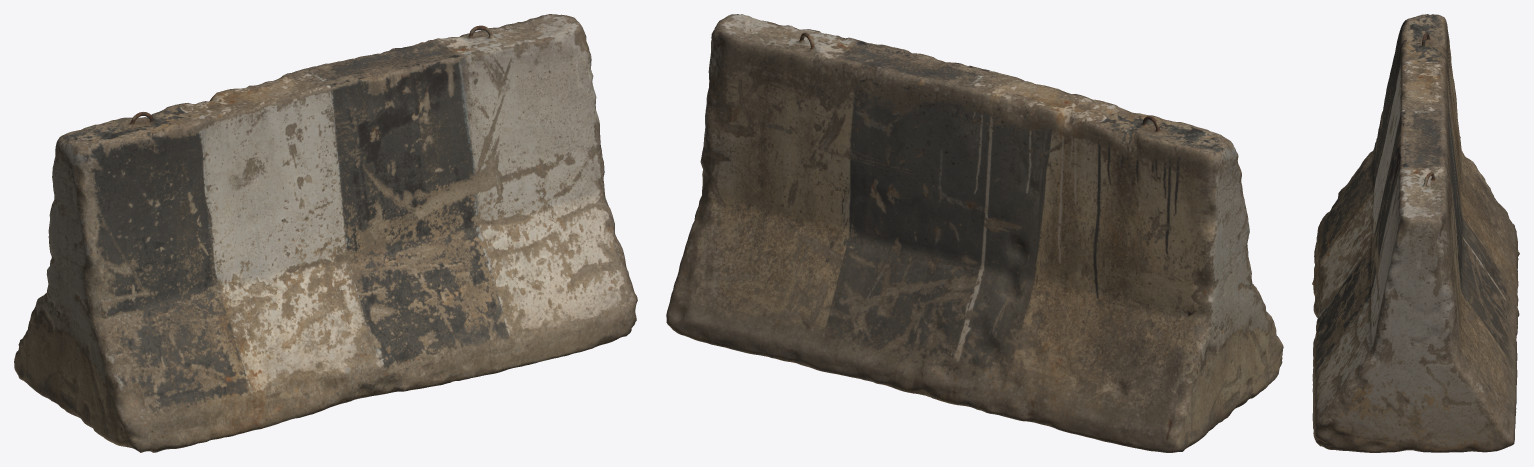
Rendered from concrete_road_barrier.glb.
3 renders of one model, left to right at view 1: azimuth 30°, elevation 25°; view 2: azimuth 150°, elevation 25°; view 3: azimuth 270°, elevation 25°, orthographic. The views are drawn at different scales.
Parts seen in each view (by area): view 1: concrete_road_barrier; view 2: concrete_road_barrier; view 3: concrete_road_barrier.
Boxes of the visible parts, x1=… form: concrete_road_barrier: x1=14, y1=14, x2=637, y2=452; concrete_road_barrier: x1=666, y1=14, x2=1283, y2=452; concrete_road_barrier: x1=1312, y1=14, x2=1519, y2=452.
Size of the model in its own units: 1.55 by 0.831 by 0.6387.
Materials: 1 (1 with a texture image).
